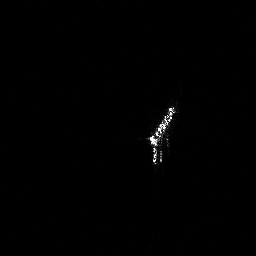ship: (143, 101, 180, 167)
